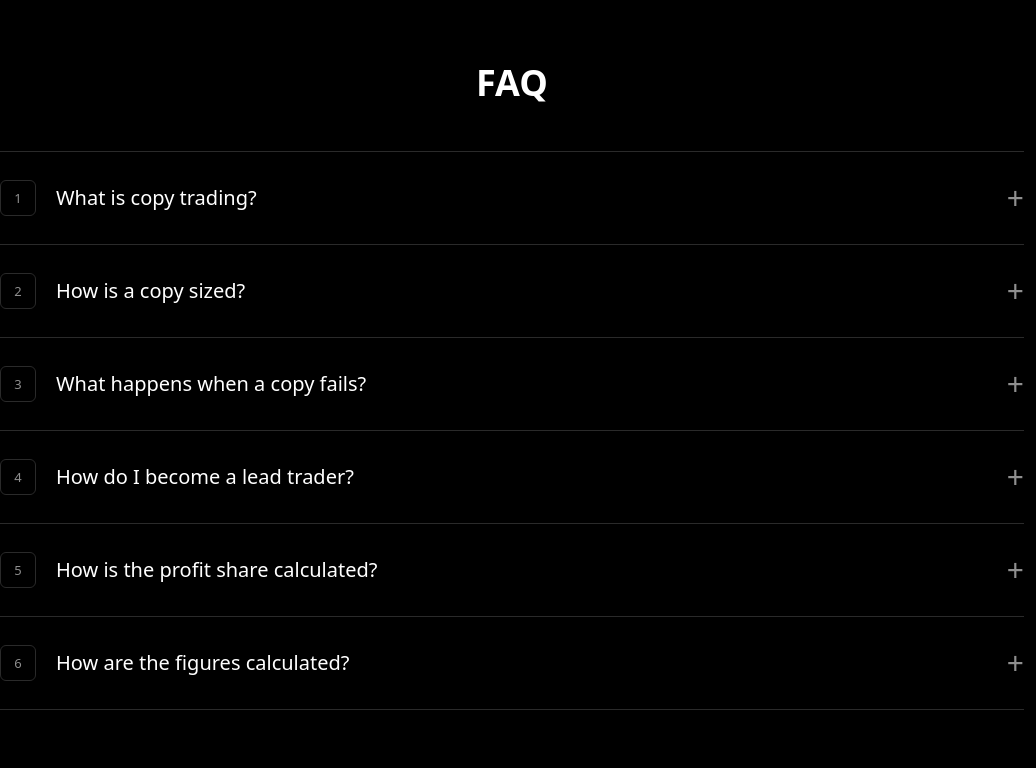
Test case: Leaders › answers the questions with the terms staff set
(page scrolled)
Click the text "What happens when a copy fails?".
click(211, 384)  # box top-left (56, 370), bottom-right (366, 397)
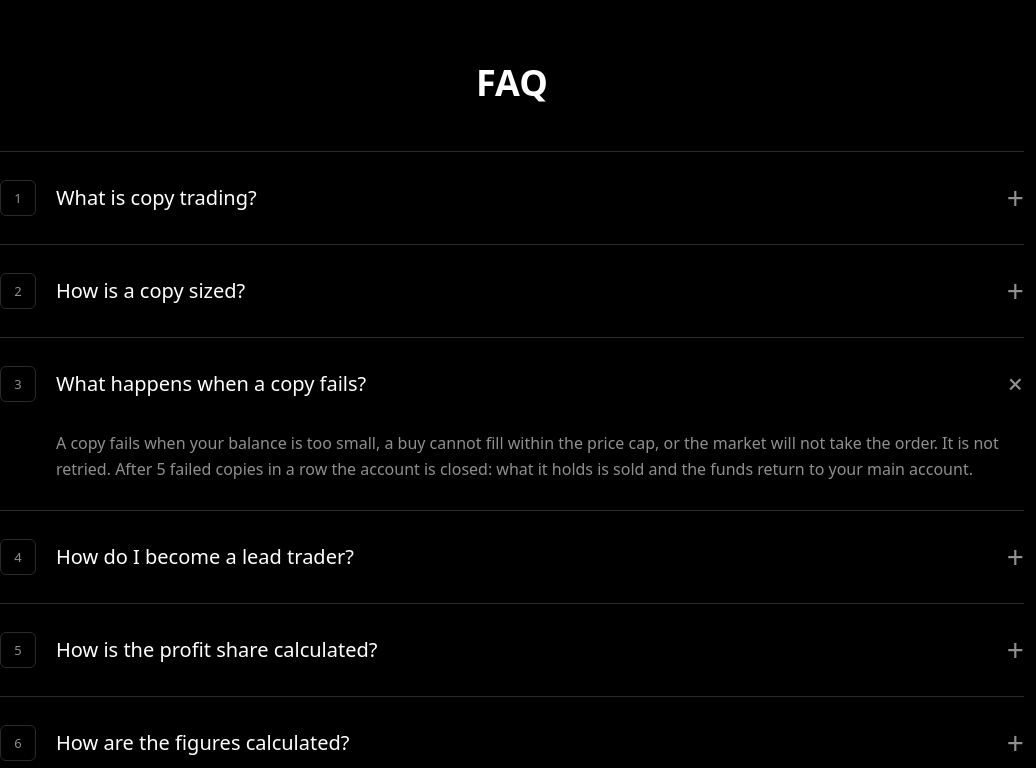
Check: the text "After 5 failed copies in a row" is shown, box top-left (56, 432), bottom-right (999, 480)
